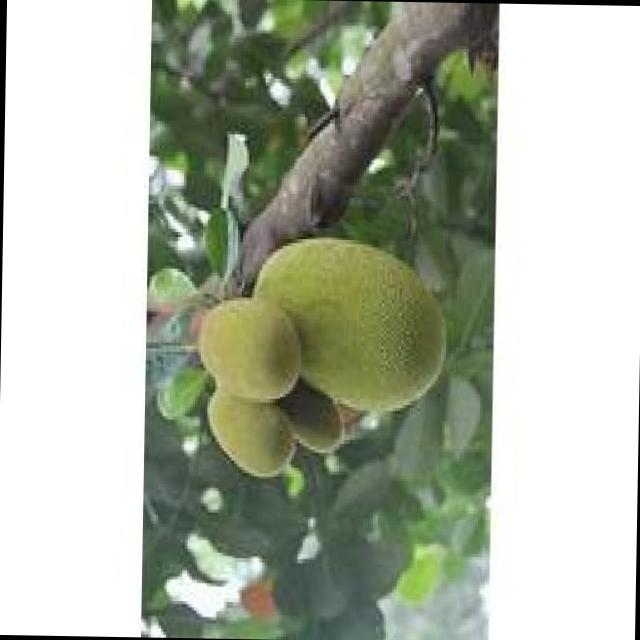Fruit: (186, 216, 454, 449)
